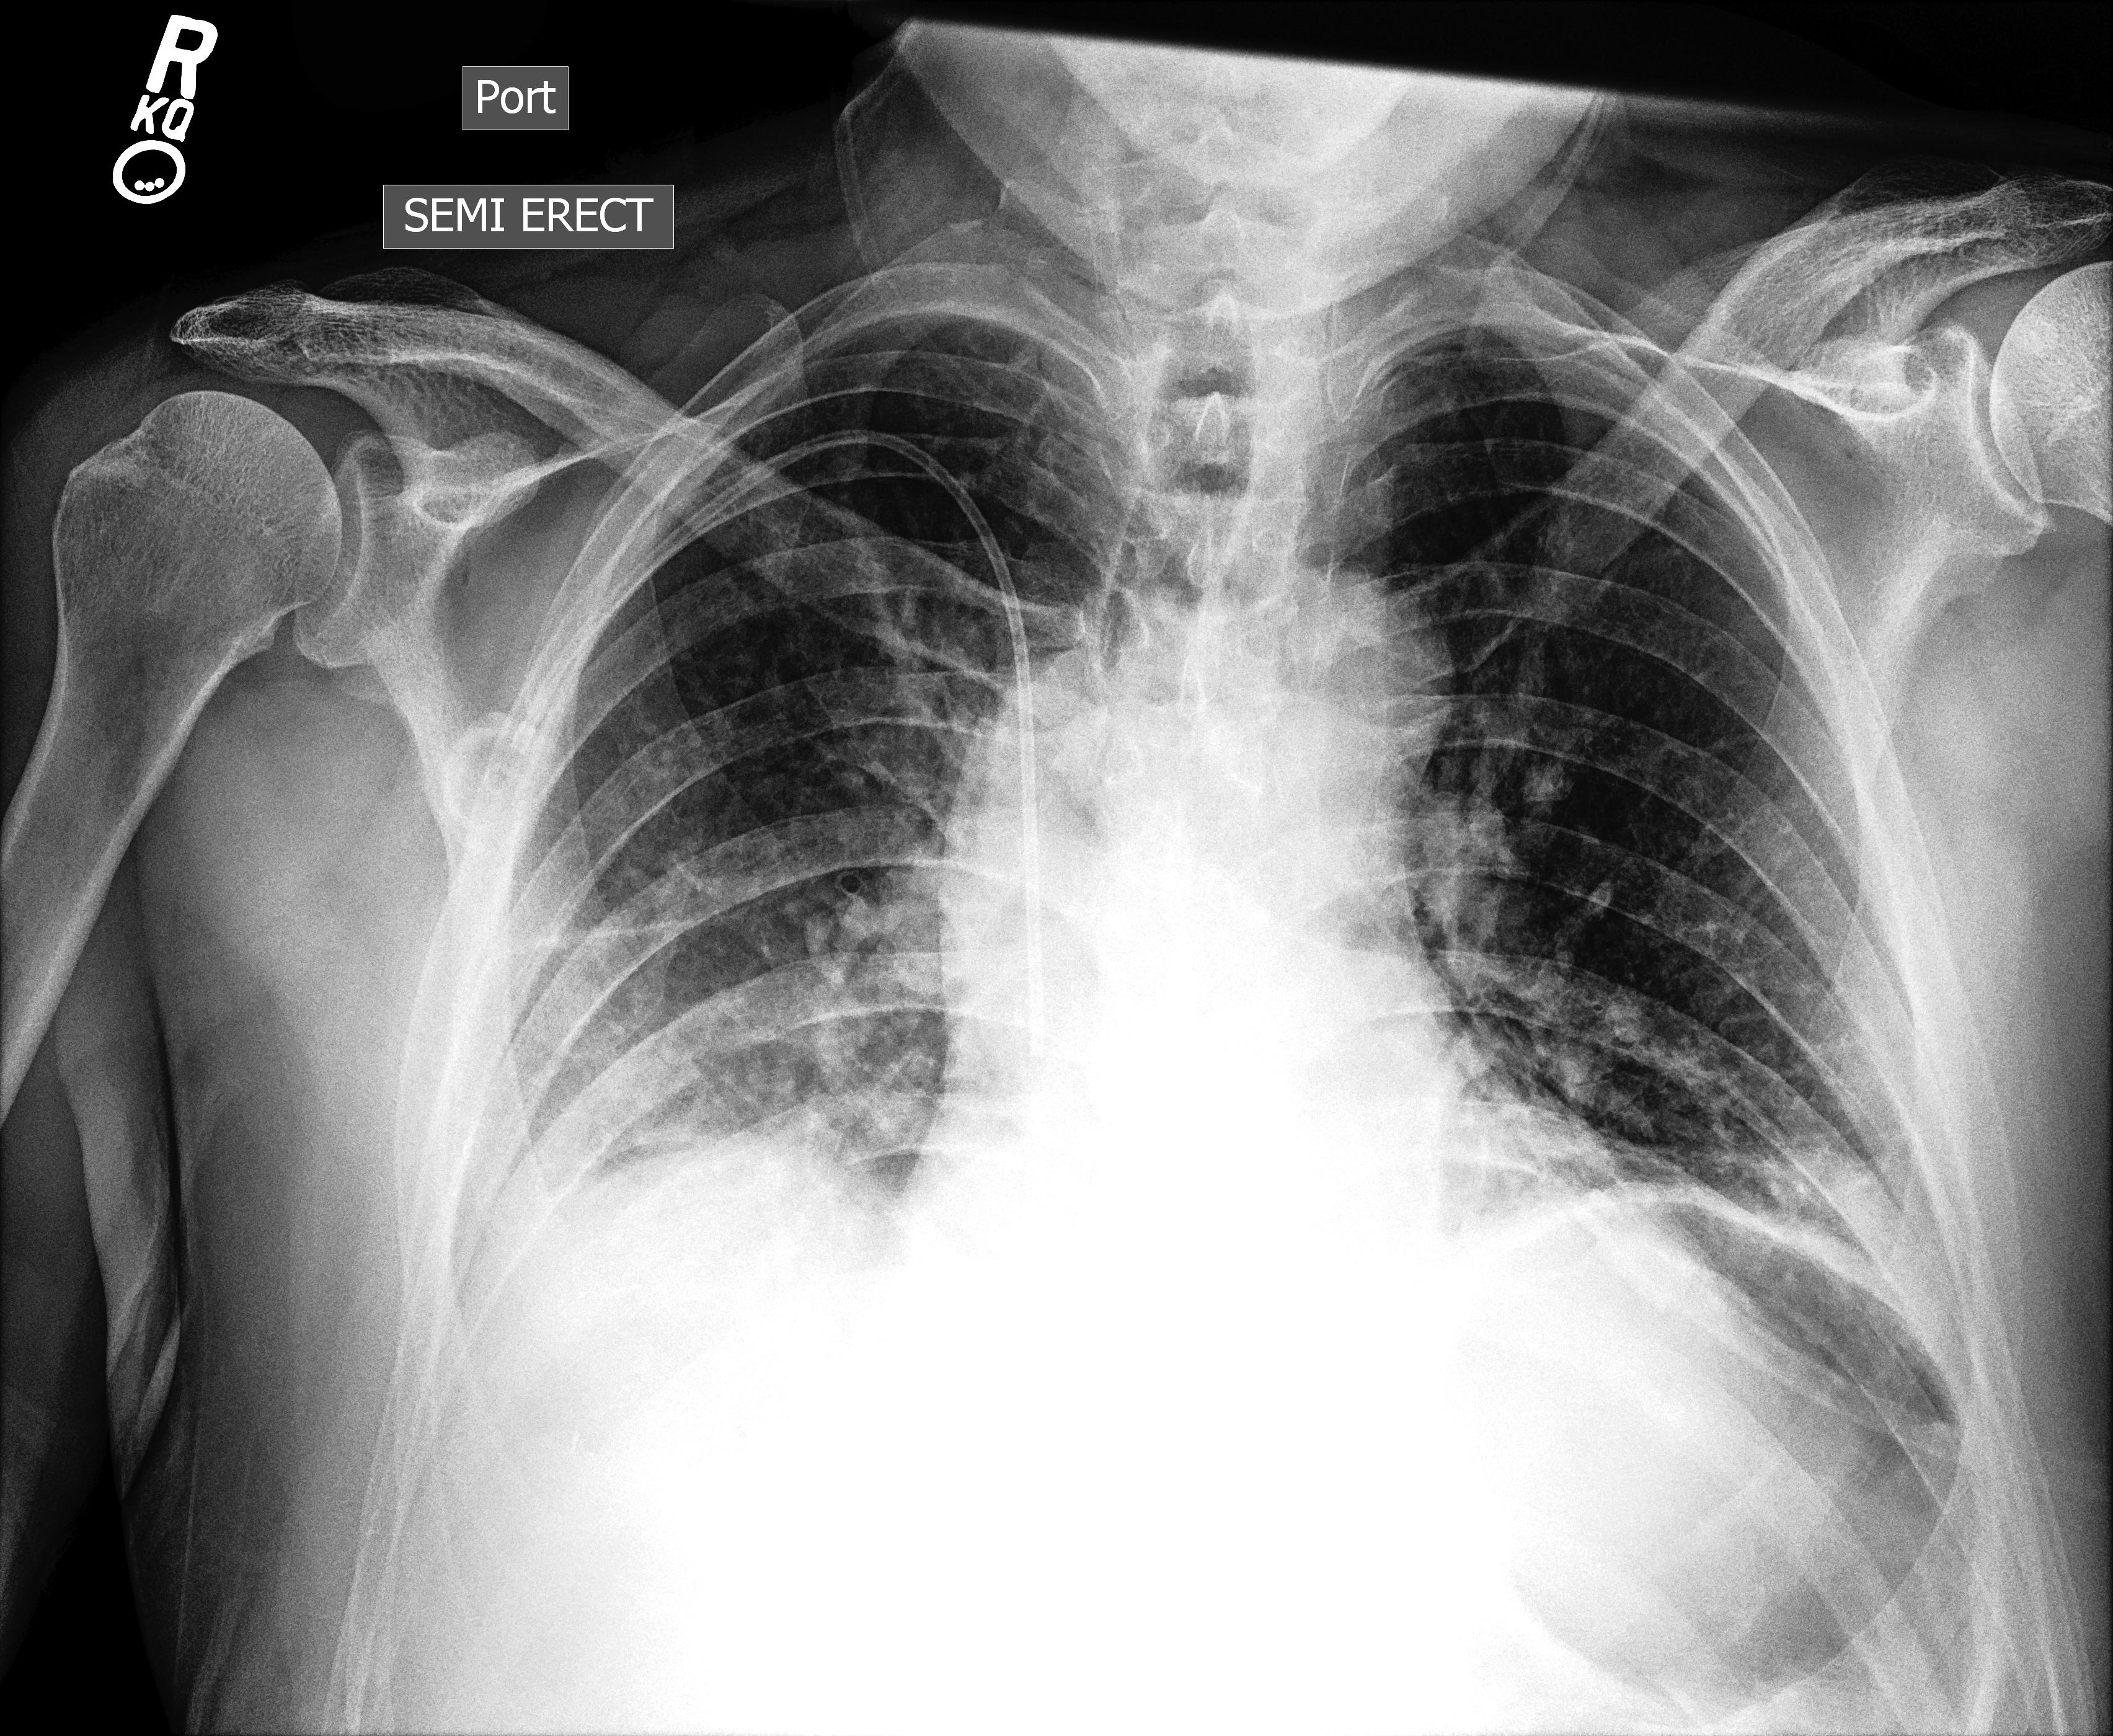Pleural Effusion: (386, 1004, 832, 1466)
